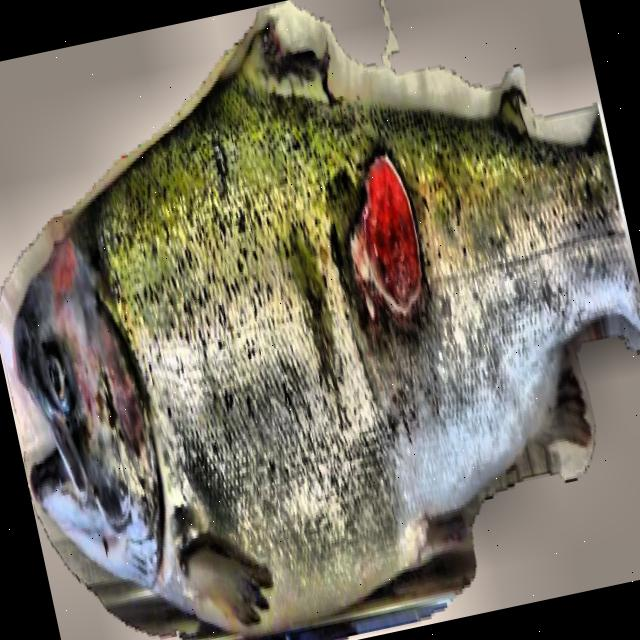mild_red: (39, 233, 147, 460)
wound: (347, 149, 425, 318)
